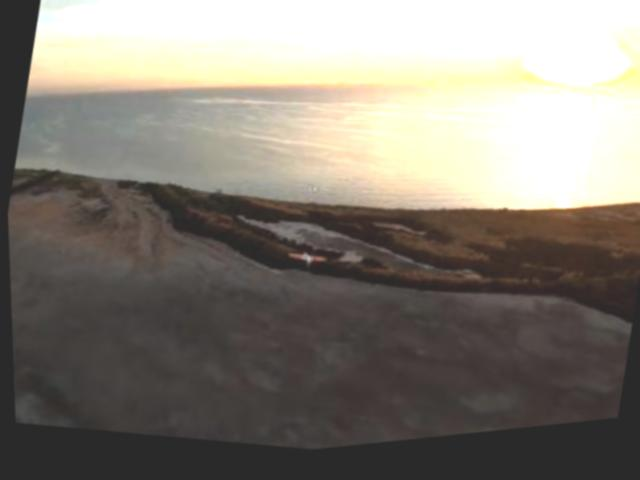uav: (284, 251, 327, 276)
